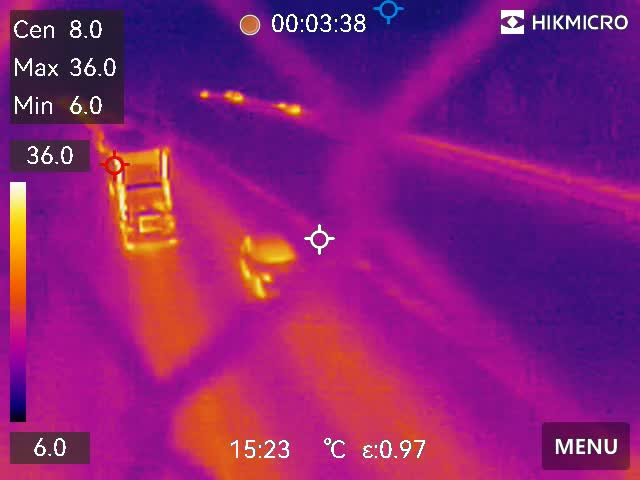heavyTruck: (87, 117, 197, 258)
